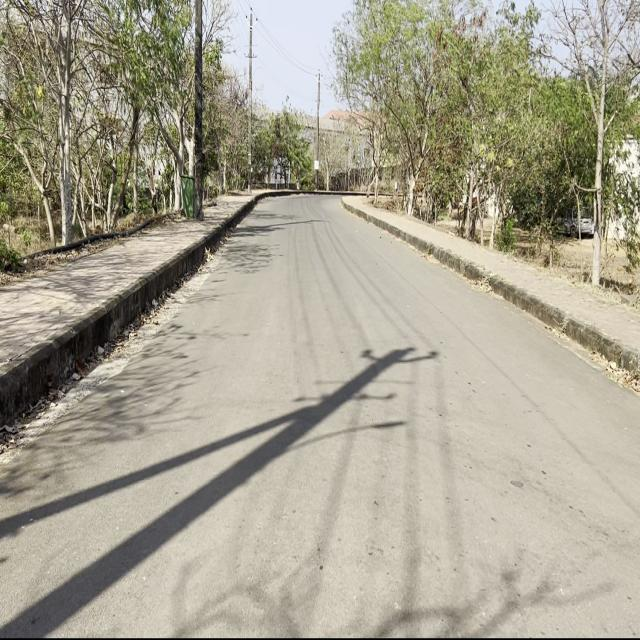Road: (3, 197, 640, 633)
